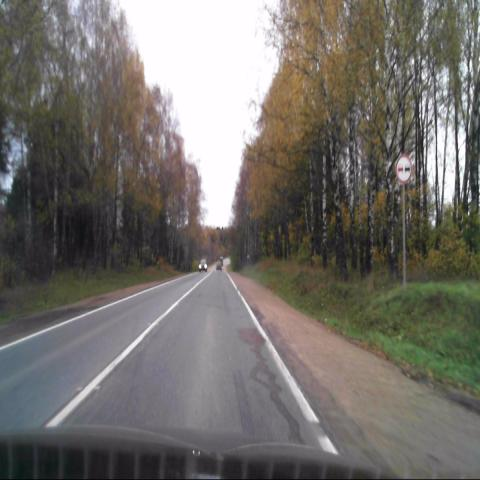3_20: (395, 155, 412, 182)
